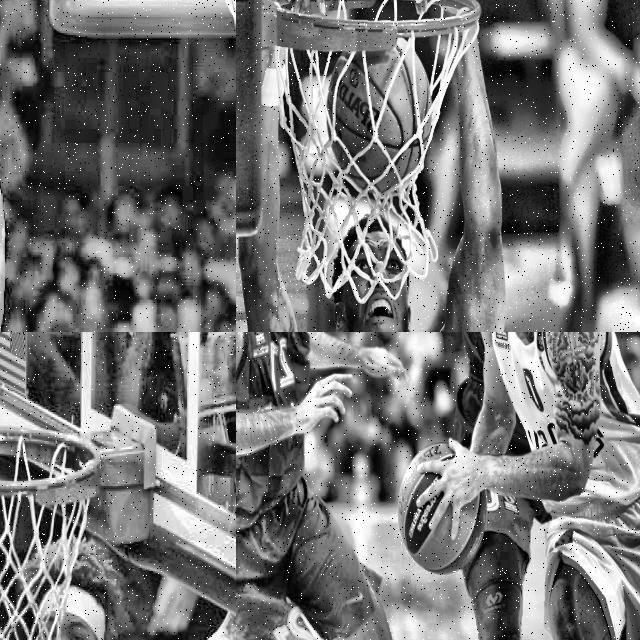Basketball: (327, 46, 432, 192), (398, 475, 485, 574), (422, 444, 450, 460)
